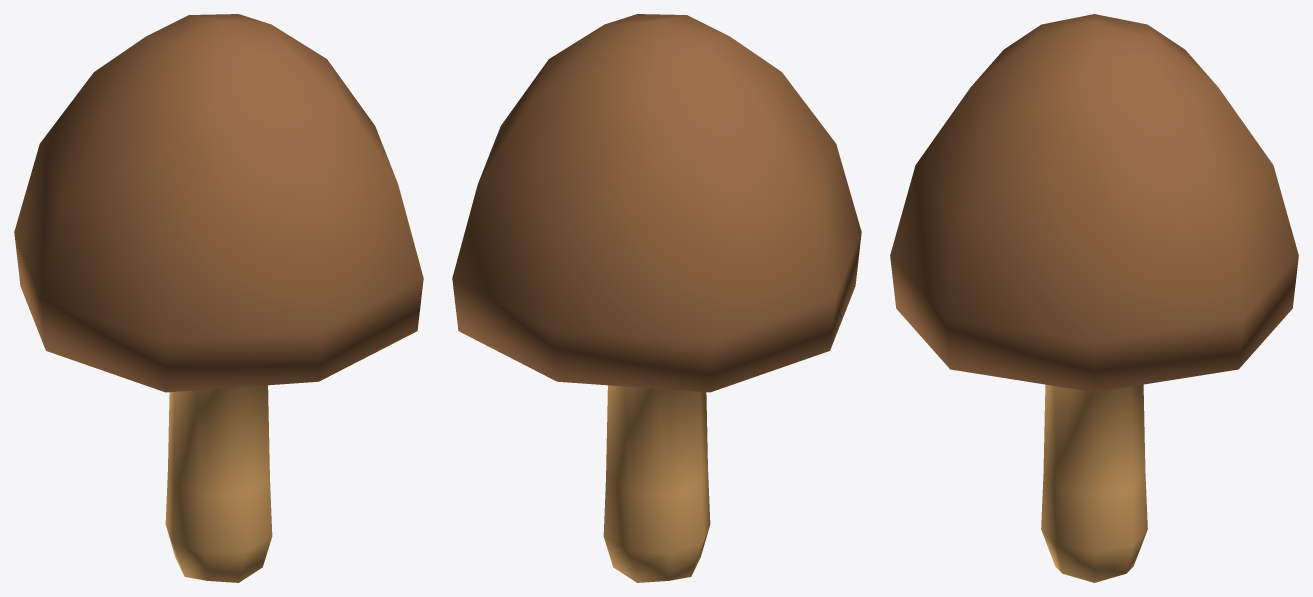
File: ast_prop_shroom4.fbx
The picture shows the model from 3 angles, left to right: view 1: azimuth 30°, elevation 25°; view 2: azimuth 150°, elevation 25°; view 3: azimuth 270°, elevation 25°; orthographic projection.
Visible parts, largest first — view 1: Plane.001; view 2: Plane.001; view 3: Plane.001.
Boxes of the visible parts, left/top/right/bottom form: Plane.001: left=14, top=14, right=423, bottom=582; Plane.001: left=452, top=14, right=861, bottom=582; Plane.001: left=890, top=14, right=1298, bottom=582.
Size of the model in its own units: 1.12 by 1.12 by 1.67.
